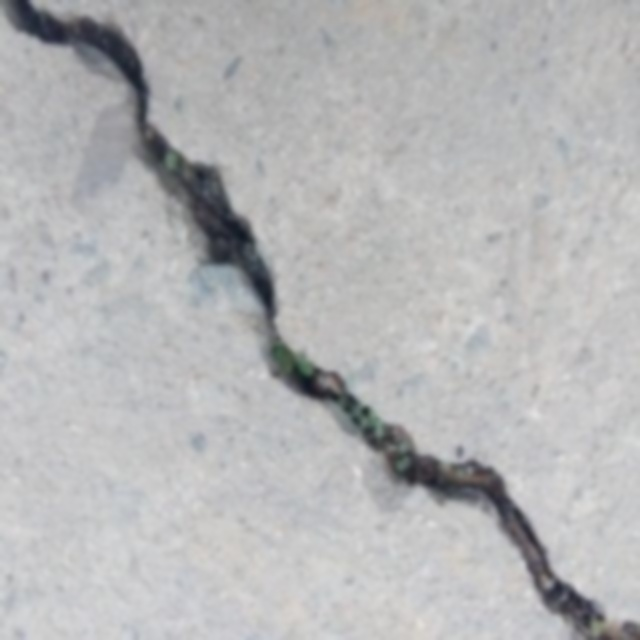SurfaceCrack: (0, 8, 620, 636)
